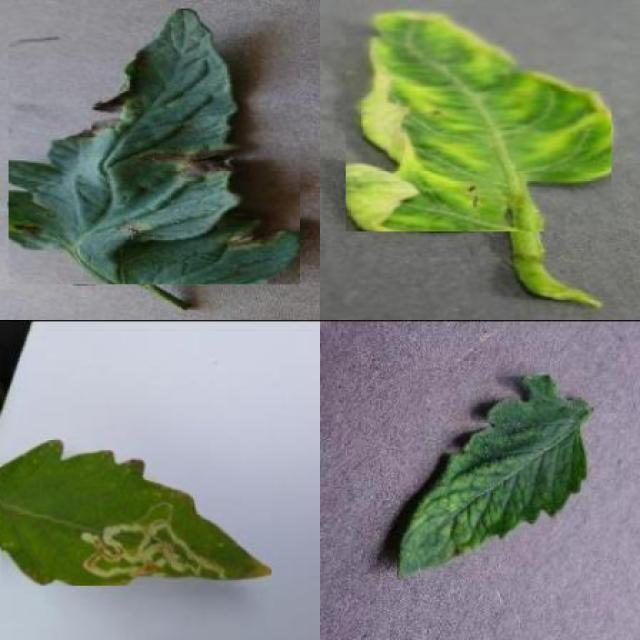Early Blight: (9, 9, 301, 284)
Leaf Miner: (2, 440, 272, 586)
Mosaic Virus: (397, 372, 589, 578)
Yellow Leaf Curl Virus: (345, 8, 612, 232)
